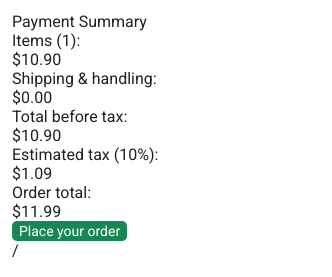
Scenario: PaymentSummary component › clicks the place order button and calls createOrder
This screenshot has width=332, height=277.
Click the button with test id "place-order-button": click(70, 231) [12,221,127,241]
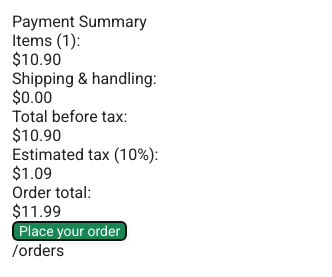
Expected: the text with test id "url-path" reads "/orders", [12,241,64,260]
